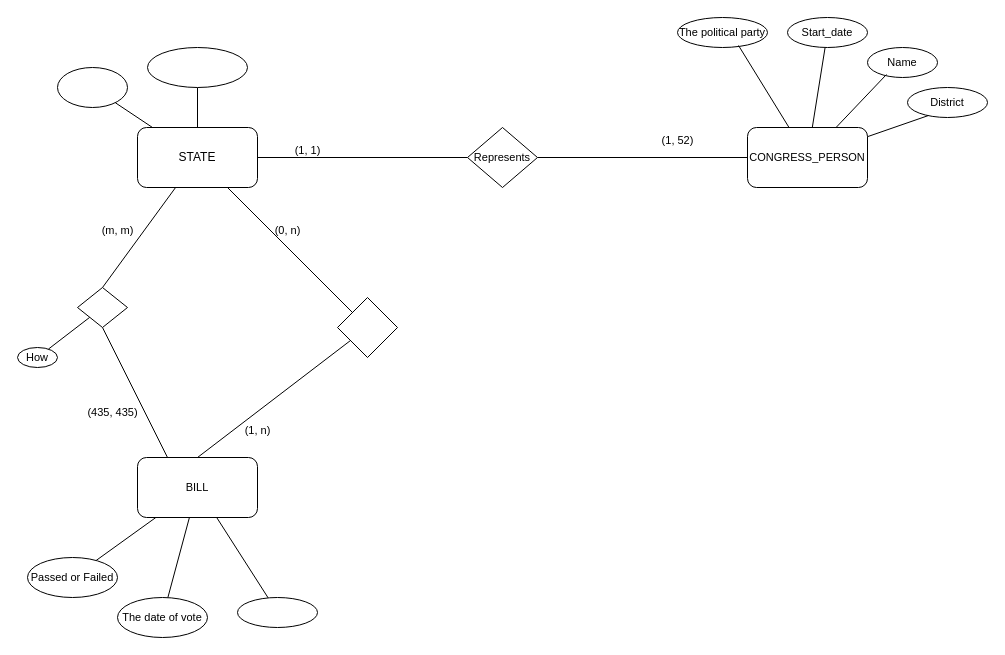
The diagram is 1005 pixels wide and 655 high, and some of its shapes have lost their labels. Here are the shapes that lost their labels. From the top down, the centre of each, then its label:
At [92,87]: "Name state".
At [197,67]: "Region of state".
At [102,307]: "Voted".
At [367,327]: "Sponsored".
At [277,612]: "Bill Name".
